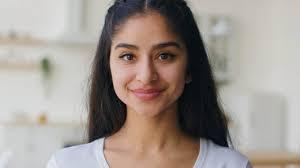person: (99, 0, 205, 120)
